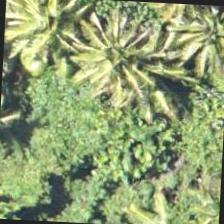Kelapa_Sawit: (62, 9, 158, 104), (2, 0, 95, 70), (171, 3, 223, 91)
